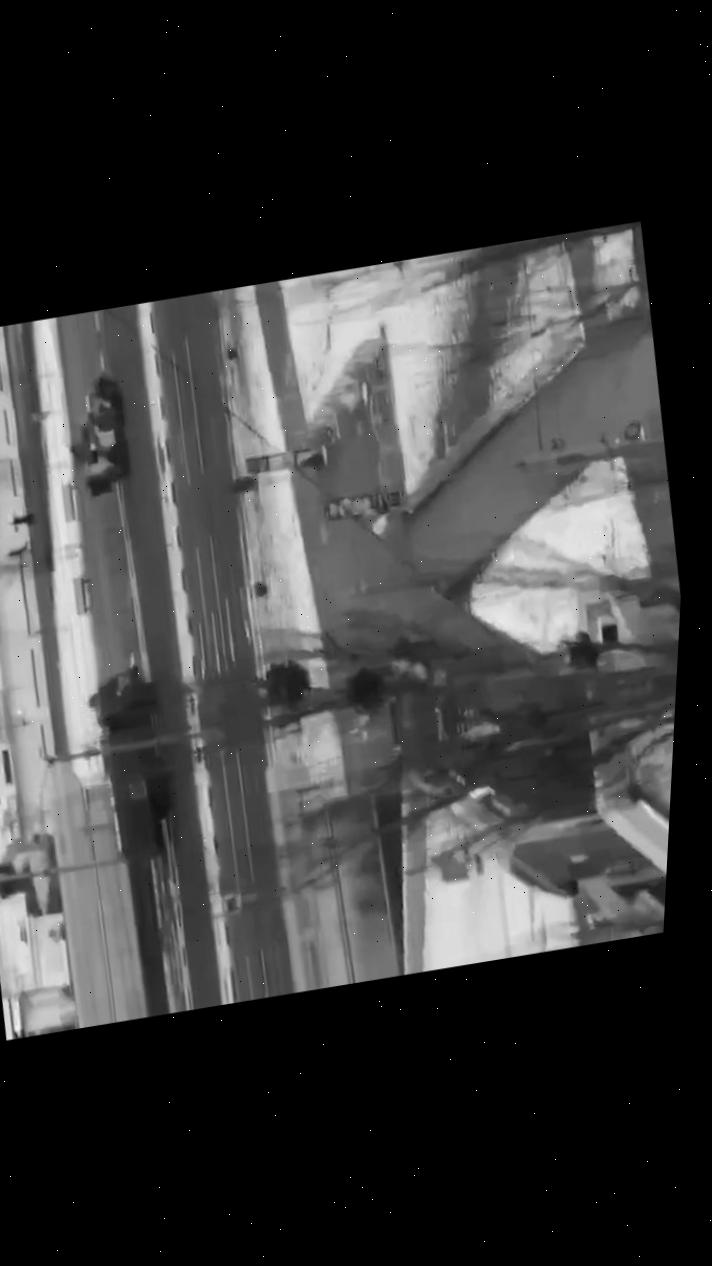armored_car: (54, 373, 139, 499)
truck: (75, 661, 187, 869)
